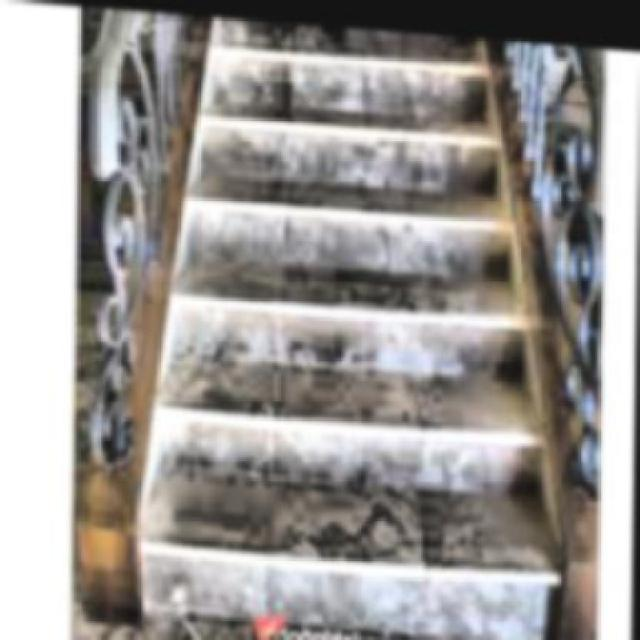stair: (154, 11, 600, 638)
